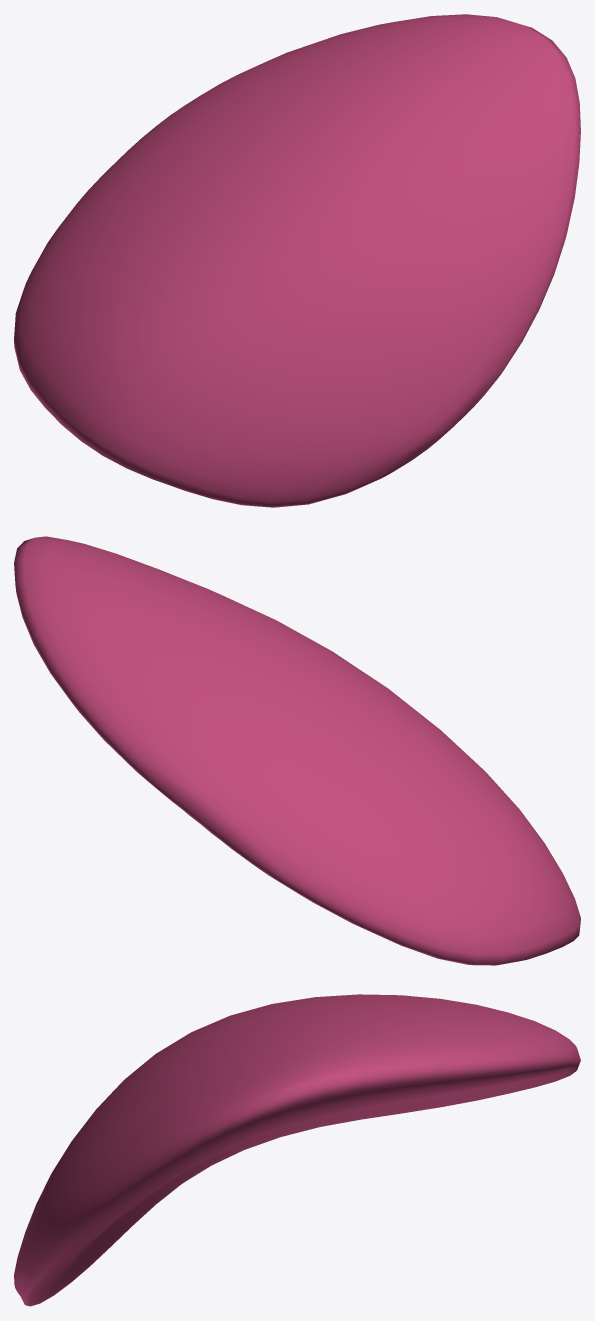
3 views of the same model, one above another, from view 1: azimuth 30°, elevation 25°; view 2: azimuth 150°, elevation 25°; view 3: azimuth 270°, elevation 25° (orthographic). The views are drawn at different scales.
Parts seen in each view (by area): view 1: 右侧冈下肌腱下囊; view 2: 右侧冈下肌腱下囊; view 3: 右侧冈下肌腱下囊.
Part boxes in pixels (box(x1,y1,x2,y2)): 右侧冈下肌腱下囊: box(14, 14, 580, 507); 右侧冈下肌腱下囊: box(14, 536, 580, 965); 右侧冈下肌腱下囊: box(14, 994, 580, 1306).
Bounding box in the file's own units: 0.0338 × 0.0211 × 0.0261.
